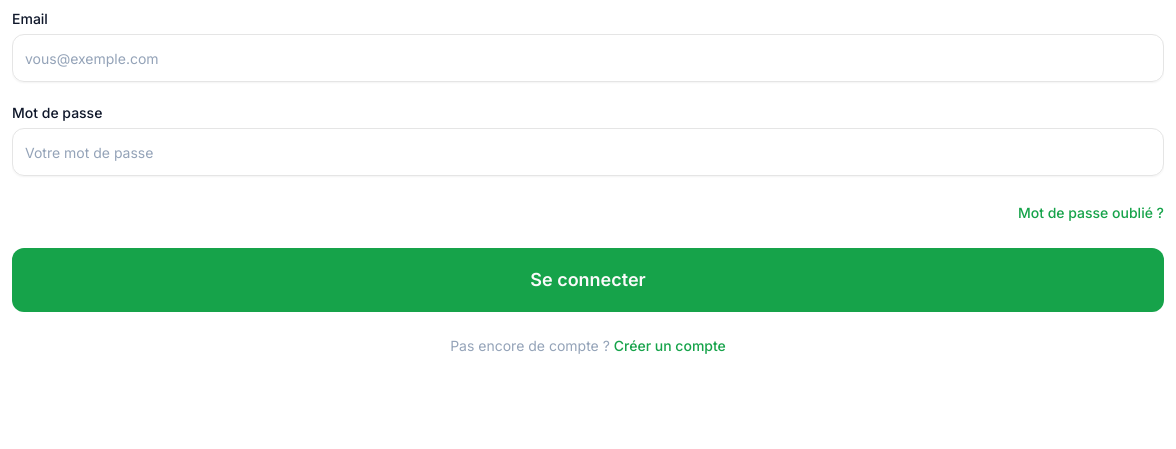
Test: LoginForm › should display generic error message for invalid credentials
Type "wrong@example.com" into the field labelled "Email". click: x=588, y=58
box: [12,34,1164,82]
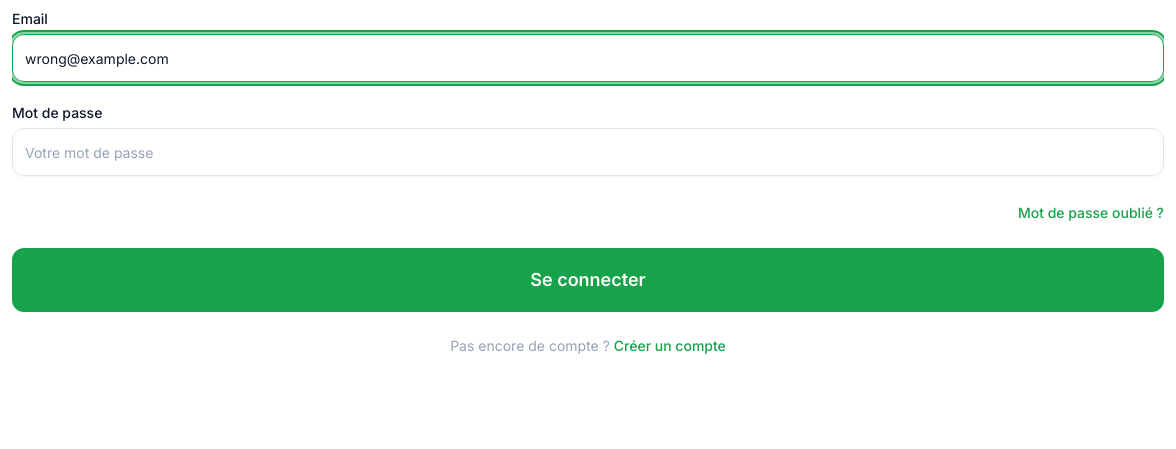
Type "wrongpassword" into the password field labelled "Mot de passe". click: x=588, y=152
box: [12,128,1164,176]
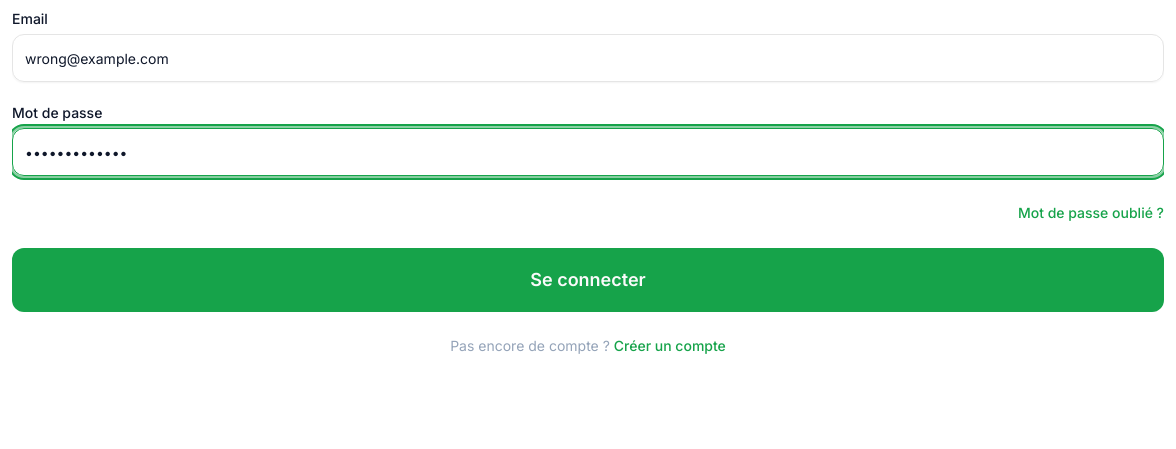
Click the button "Se connecter". click: x=588, y=280
box: [12,248,1164,312]
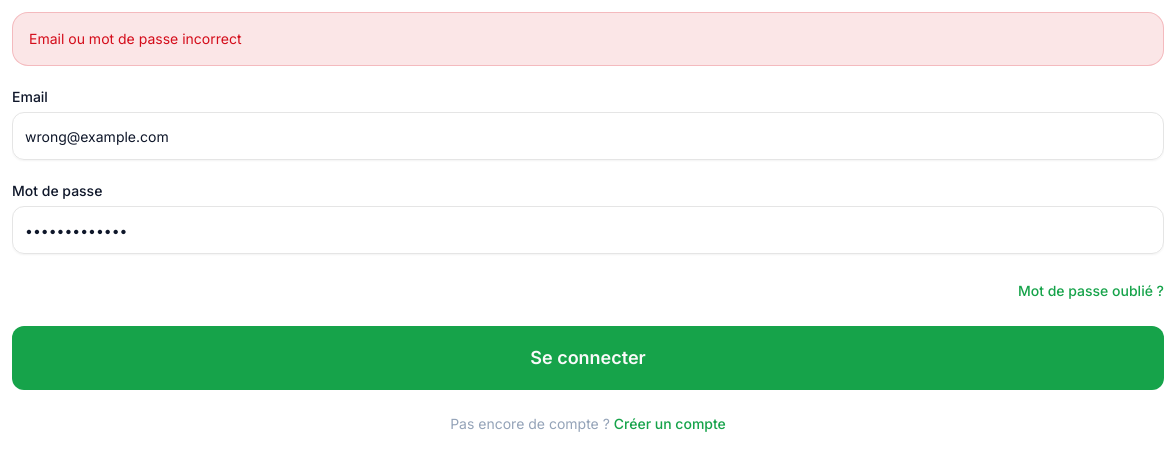
Expected: the text "Email ou mot de passe incorrect" is shown, [12,12,1164,66]
